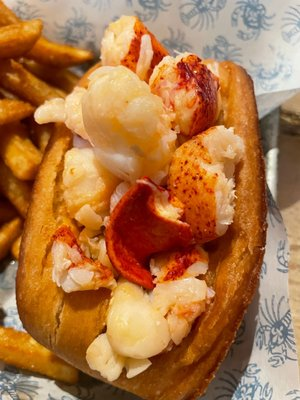soup: (8, 14, 272, 399)
